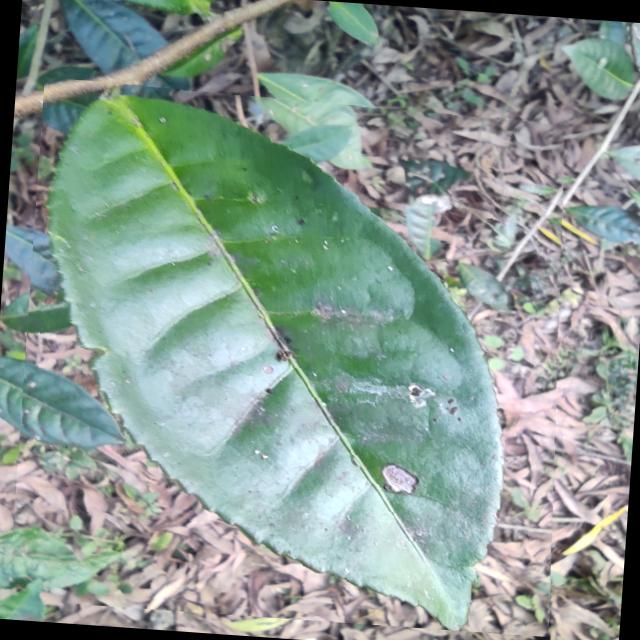Category D(7+ days, Not for Tea): (8, 75, 585, 636)
